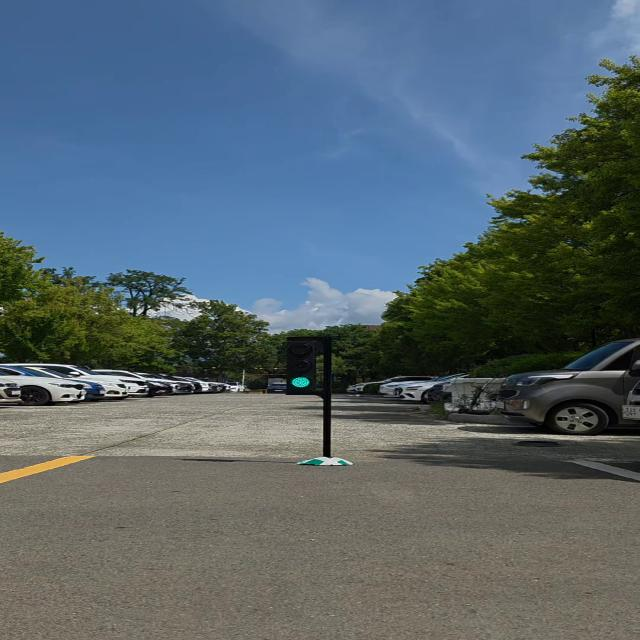green: (283, 337, 323, 394)
